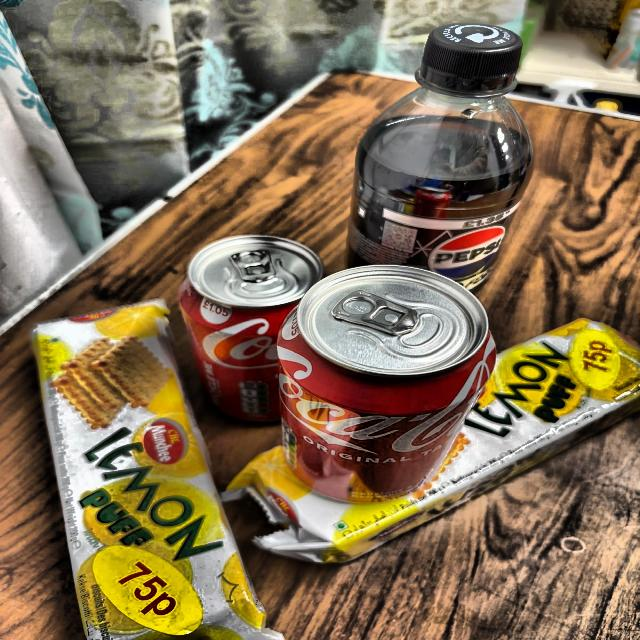coke-can: (293, 264, 504, 524), (181, 236, 320, 438)
lemon puff: (250, 320, 640, 572), (21, 294, 267, 640)
pepsi-bottle: (363, 20, 536, 302)
